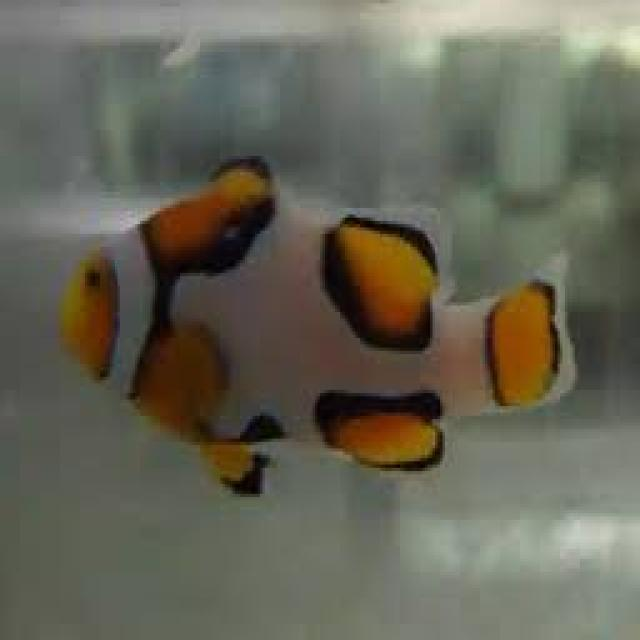ClownFish: (64, 148, 576, 496)
